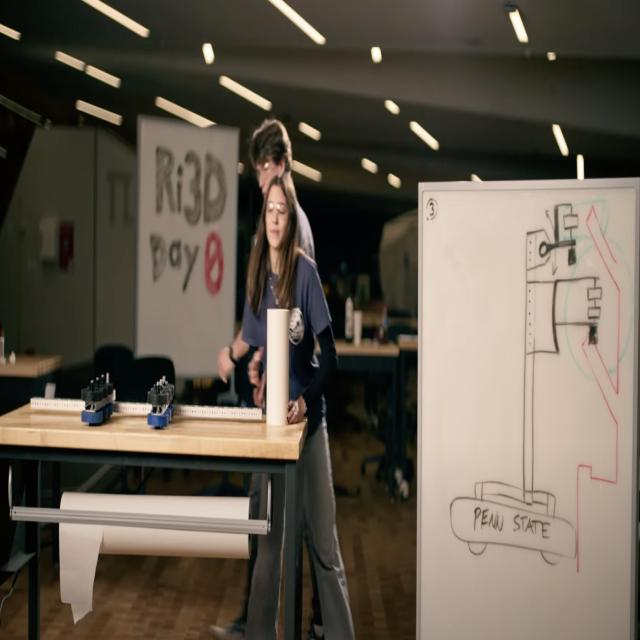Coral: (266, 306, 288, 423)
